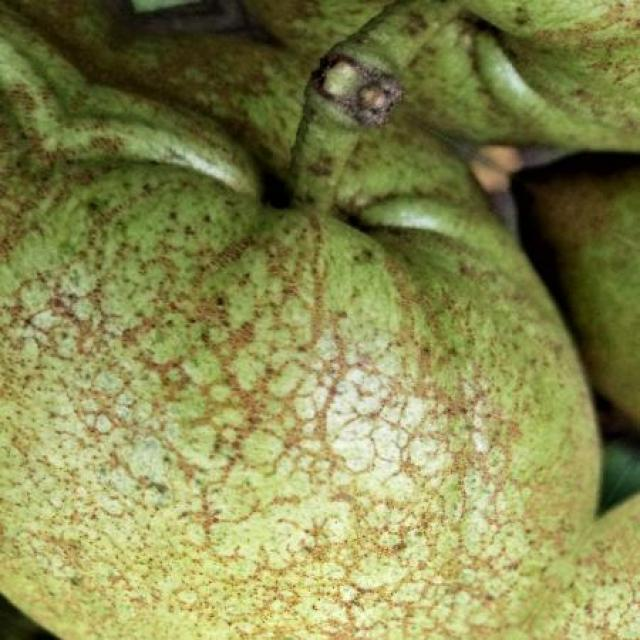Scab: (0, 145, 598, 640)
